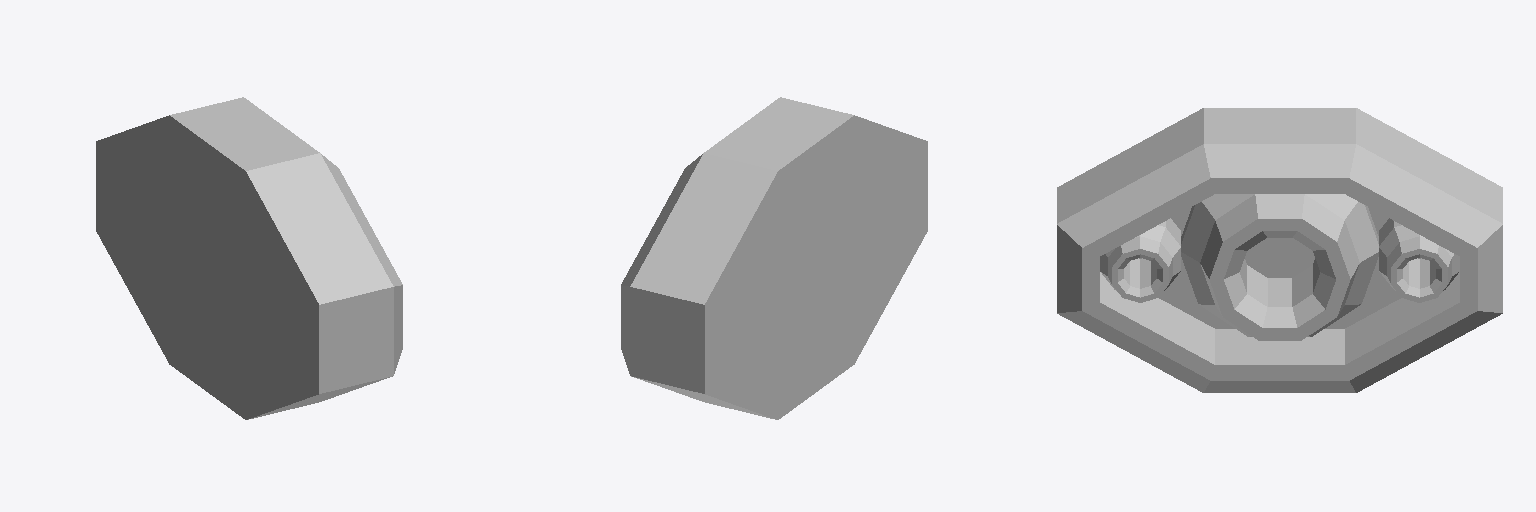
The model's file is Spacestation_Propulsion_Thruster_Triple_Large.obj.
3 views of the same model, side by side, from view 1: azimuth 30°, elevation 25°; view 2: azimuth 150°, elevation 25°; view 3: azimuth 270°, elevation 25° (orthographic).
Visible parts, largest first — view 1: object3; view 2: object3; view 3: object3, object1, object2, object4.
Part boxes in pixels (bbox=[...]): object3: bbox=[96, 97, 402, 419]; object3: bbox=[621, 97, 927, 419]; object3: bbox=[1057, 108, 1502, 392]; object1: bbox=[1181, 194, 1378, 340]; object2: bbox=[1100, 218, 1180, 302]; object4: bbox=[1379, 218, 1459, 302].
Bounding box in the file's own units: 0.65 × 1.6 × 2.6.